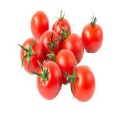tomato: (64, 64, 96, 102), (37, 61, 62, 100), (20, 32, 44, 71), (38, 24, 61, 58), (56, 45, 76, 84), (85, 13, 103, 53), (61, 30, 83, 62), (54, 13, 71, 38), (32, 10, 47, 38)
